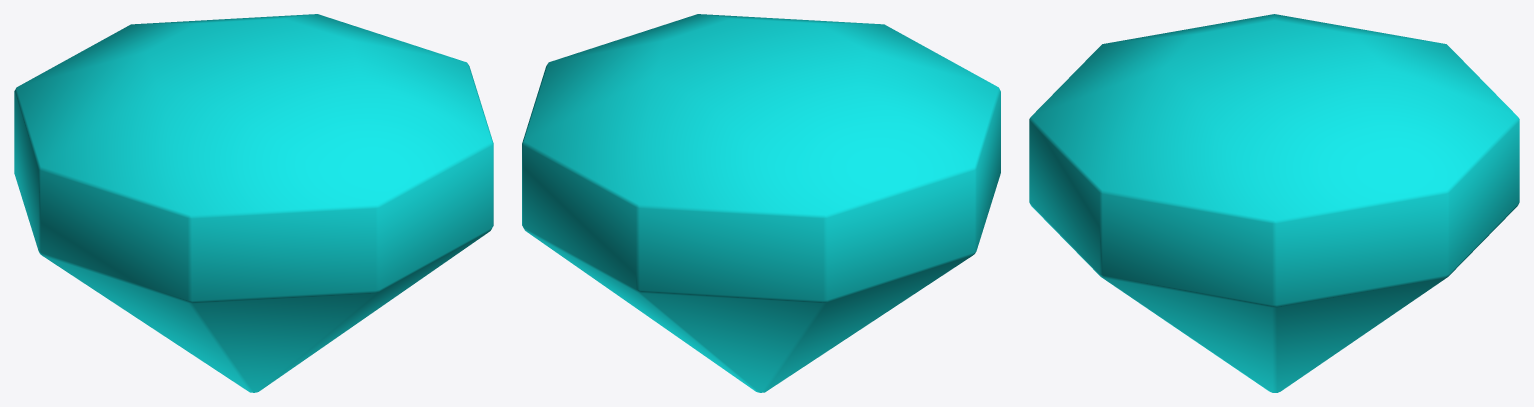
Rendered from jewelry4.fbx.
3 views of the same model, side by side, from view 1: azimuth 30°, elevation 25°; view 2: azimuth 150°, elevation 25°; view 3: azimuth 270°, elevation 25° (orthographic).
Visible parts, largest first — view 1: 円.003; view 2: 円.003; view 3: 円.003.
Boxes of the visible parts, <box> form: 円.003: <box>14,14,493,392</box>; 円.003: <box>522,14,1000,392</box>; 円.003: <box>1029,14,1519,392</box>.
Bounding box in the file's own units: 199 × 145 × 199.
